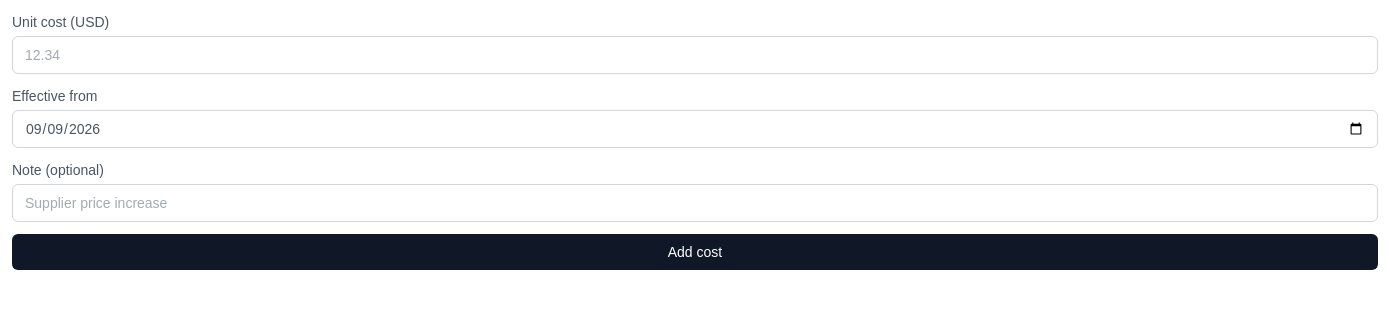
Scenario: VariantCostForm › blocks submit when the cost is not a 2-decimal amount
Type "12.345" into the field labelled "Unit cost" at (695, 55), box [12,36,1378,74]
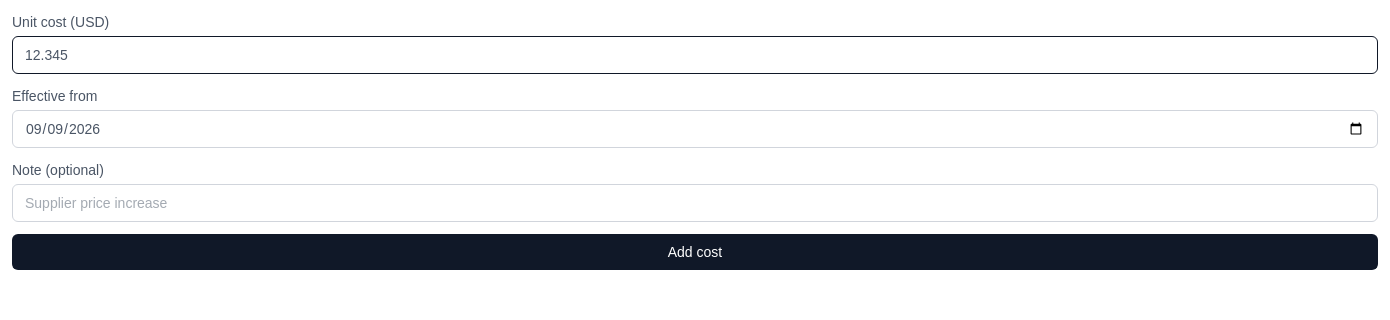
Click the button "Add cost" at (695, 252), box [12,234,1378,270]
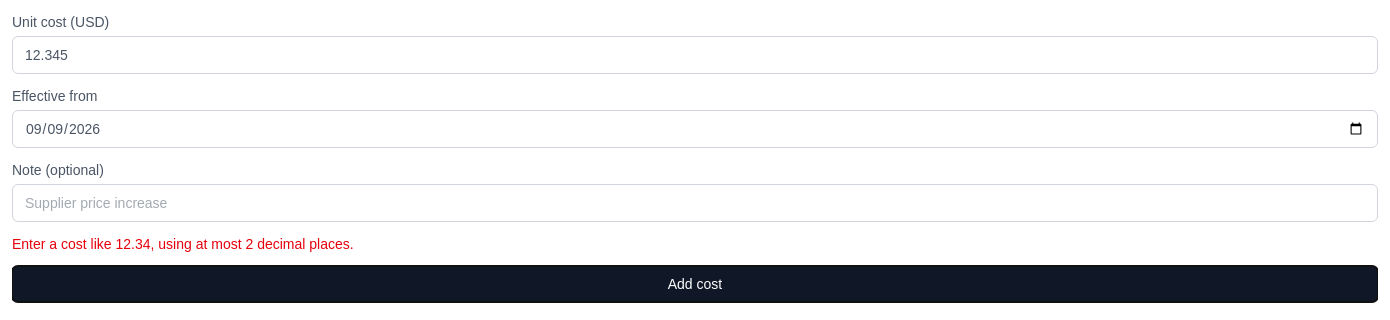
Expected: the text "Enter a cost like 12.34, using at most 2 decimal places." is shown, [12,236,354,252]
